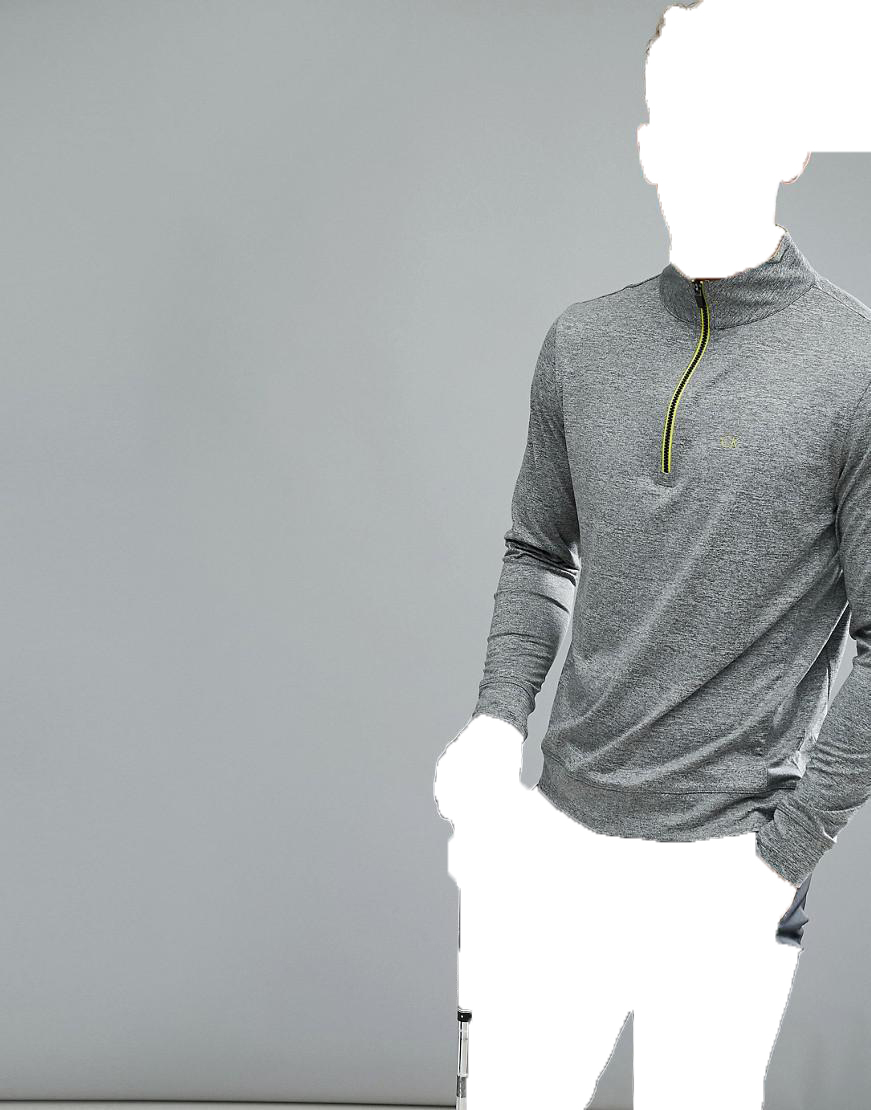teeshirt: (459, 244, 871, 880)
